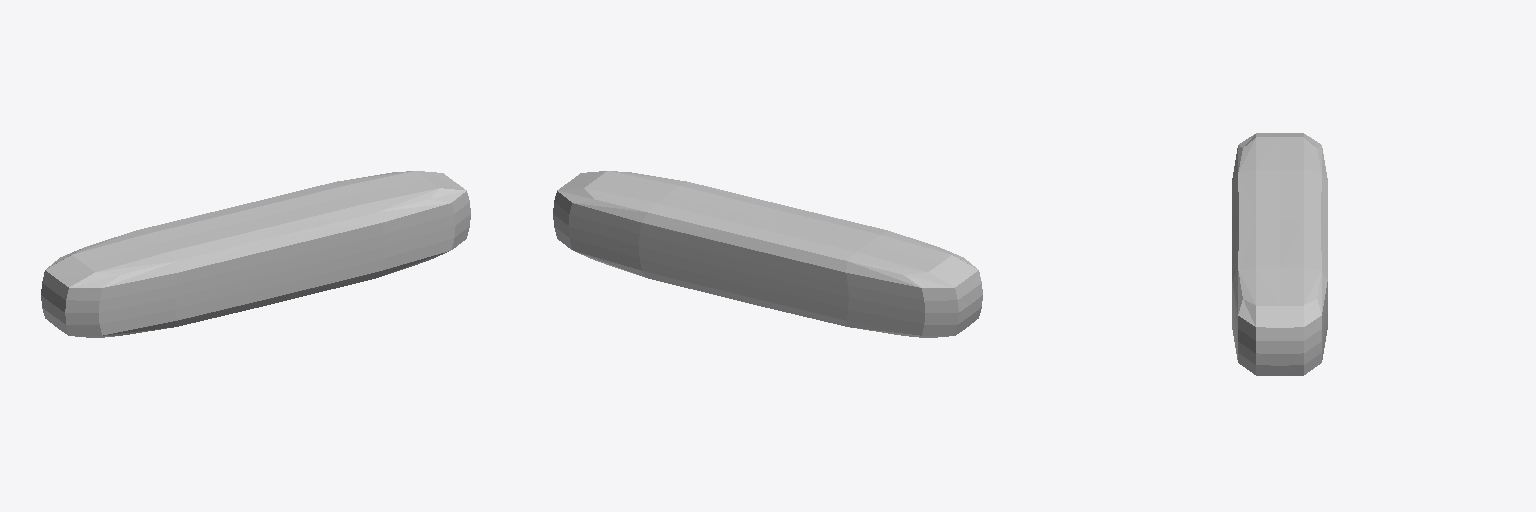
The model's file is genericLimb.obj.
The picture shows the model from 3 angles: view 1: azimuth 30°, elevation 25°; view 2: azimuth 150°, elevation 25°; view 3: azimuth 270°, elevation 25°; orthographic projection.
Visible parts, largest first — view 1: Cube.002; view 2: Cube.002; view 3: Cube.002.
Part boxes in pixels (x1,y1,x2,y2): Cube.002: (41,171,470,337); Cube.002: (553,171,982,337); Cube.002: (1232,133,1327,375).
Bounding box in the file's own units: 0.9811 × 0.1715 × 0.2027.